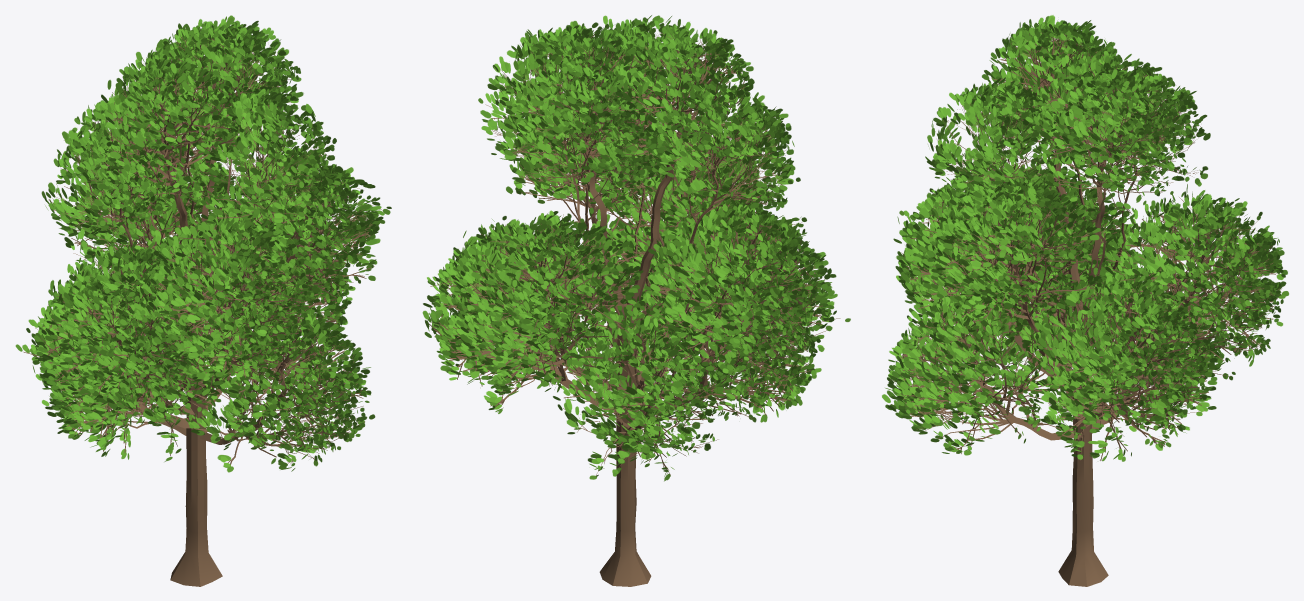
The model's file is stylized_tree.glb.
3 views of the same model, side by side, from view 1: azimuth 30°, elevation 25°; view 2: azimuth 150°, elevation 25°; view 3: azimuth 270°, elevation 25° (orthographic). The views are drawn at different scales.
Parts seen in each view (by area): view 1: oak 01, oak 01.001; view 2: oak 01, oak 01.001; view 3: oak 01, oak 01.001.
Part boxes in pixels (bbox=[...]): oak 01: bbox=[15, 15, 391, 472]; oak 01.001: bbox=[23, 32, 382, 586]; oak 01: bbox=[422, 15, 850, 481]; oak 01.001: bbox=[429, 28, 840, 586]; oak 01: bbox=[882, 15, 1288, 461]; oak 01.001: bbox=[890, 32, 1281, 586].
Size of the model in its own units: 0.3678 by 0.564 by 0.389.
2 materials, 1 textured.
